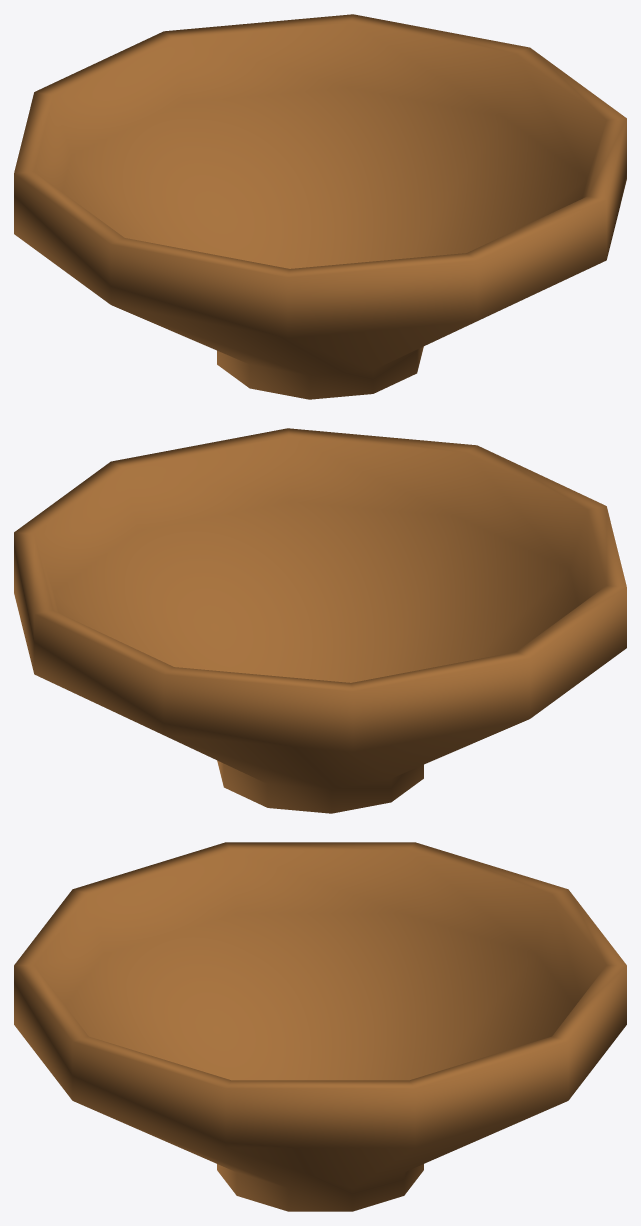
The model's file is rpgpp_ag_bowl_pottery_01.fbx.
3 views of the same model, one above another, from view 1: azimuth 30°, elevation 25°; view 2: azimuth 150°, elevation 25°; view 3: azimuth 270°, elevation 25° (orthographic). The views are drawn at different scales.
Visible parts, largest first — view 1: rpgpp_ag_bowl_pottery_01; view 2: rpgpp_ag_bowl_pottery_01; view 3: rpgpp_ag_bowl_pottery_01.
Boxes of the visible parts, bbox=[...] form: rpgpp_ag_bowl_pottery_01: bbox=[14, 14, 626, 399]; rpgpp_ag_bowl_pottery_01: bbox=[14, 428, 626, 813]; rpgpp_ag_bowl_pottery_01: bbox=[14, 842, 626, 1211].
Bounding box in the file's own units: 0.3913 × 0.1516 × 0.4115.
